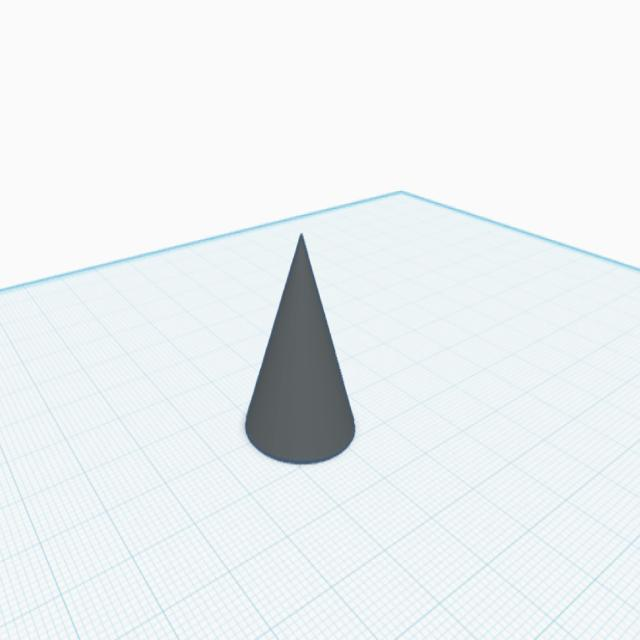cone: (240, 223, 358, 476)
